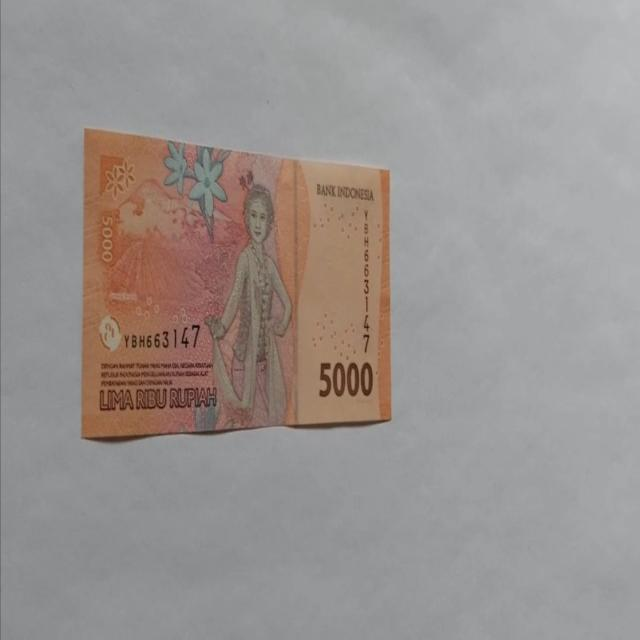lima ribu rupiah: (80, 125, 392, 440), (202, 182, 294, 428)
